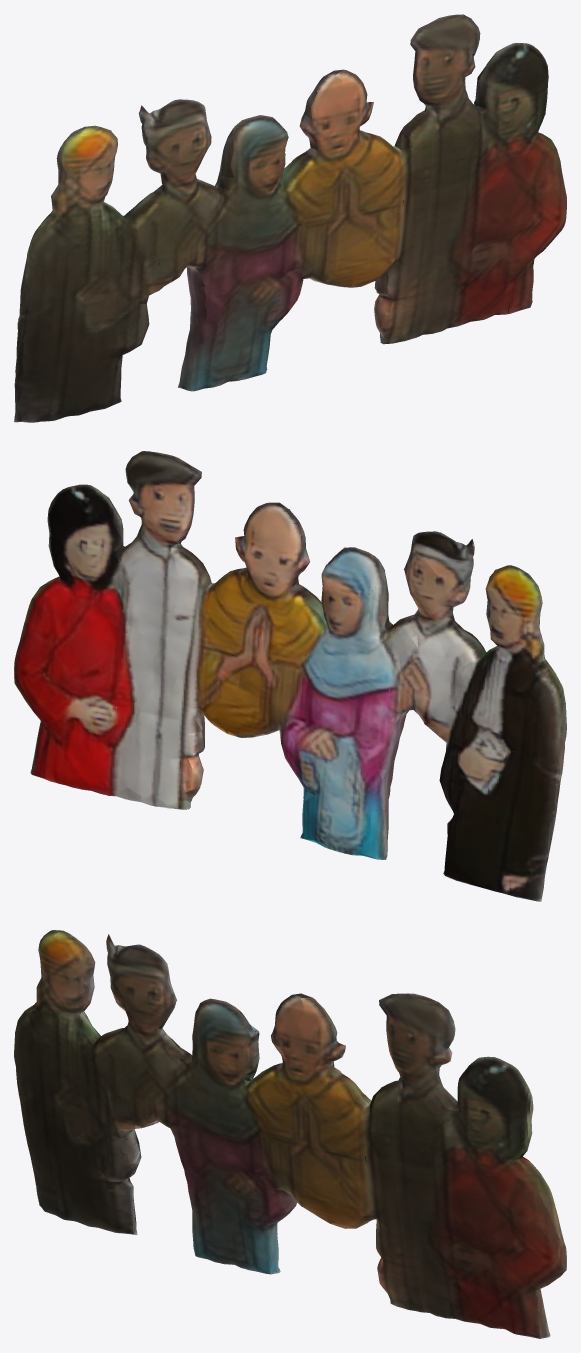
The model's file is KEBERAGAMAN AGAMA.glb.
3 views of the same model, one above another, from view 1: azimuth 30°, elevation 25°; view 2: azimuth 150°, elevation 25°; view 3: azimuth 330°, elevation 25° (orthographic).
Parts seen in each view (by area): view 1: world; view 2: world; view 3: world.
Boxes of the visible parts, x1=… form: world: x1=14, y1=14, x2=566, y2=422; world: x1=14, y1=451, x2=566, y2=901; world: x1=14, y1=930, x2=566, y2=1338.
Bounding box in the file's own units: 0.9764 × 0.5634 × 0.1259.
1 material, 1 textured.
